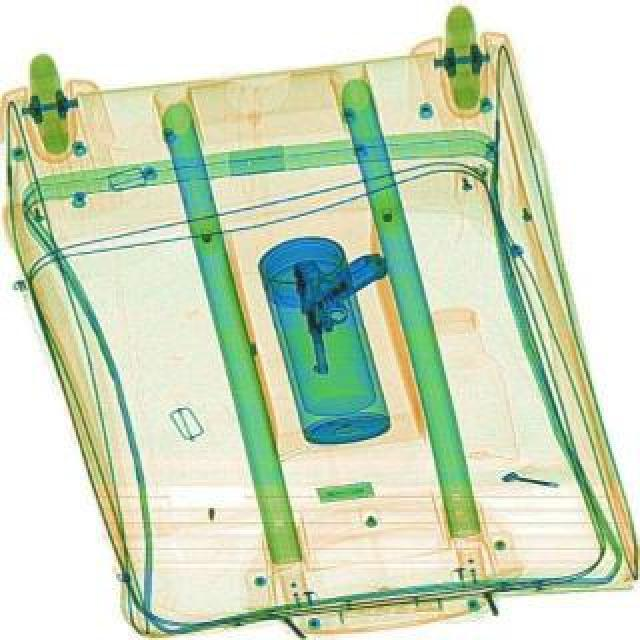gun: (290, 250, 400, 376)
